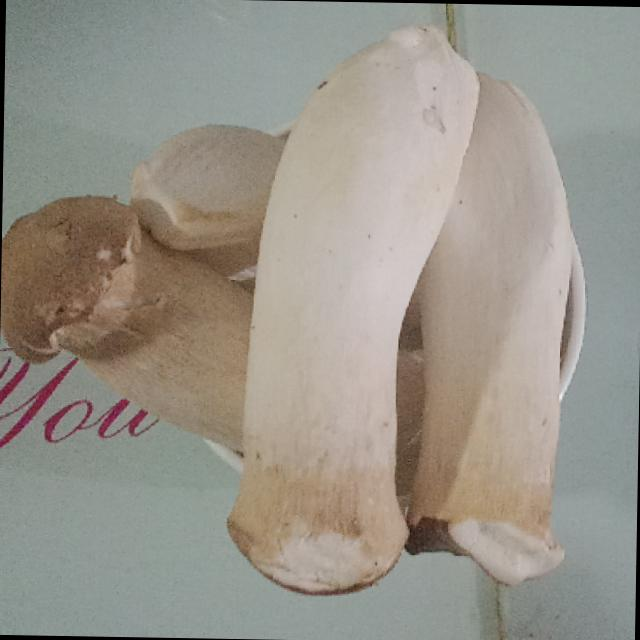Pleurotus eryngii: (206, 24, 476, 614), (402, 71, 576, 598)
